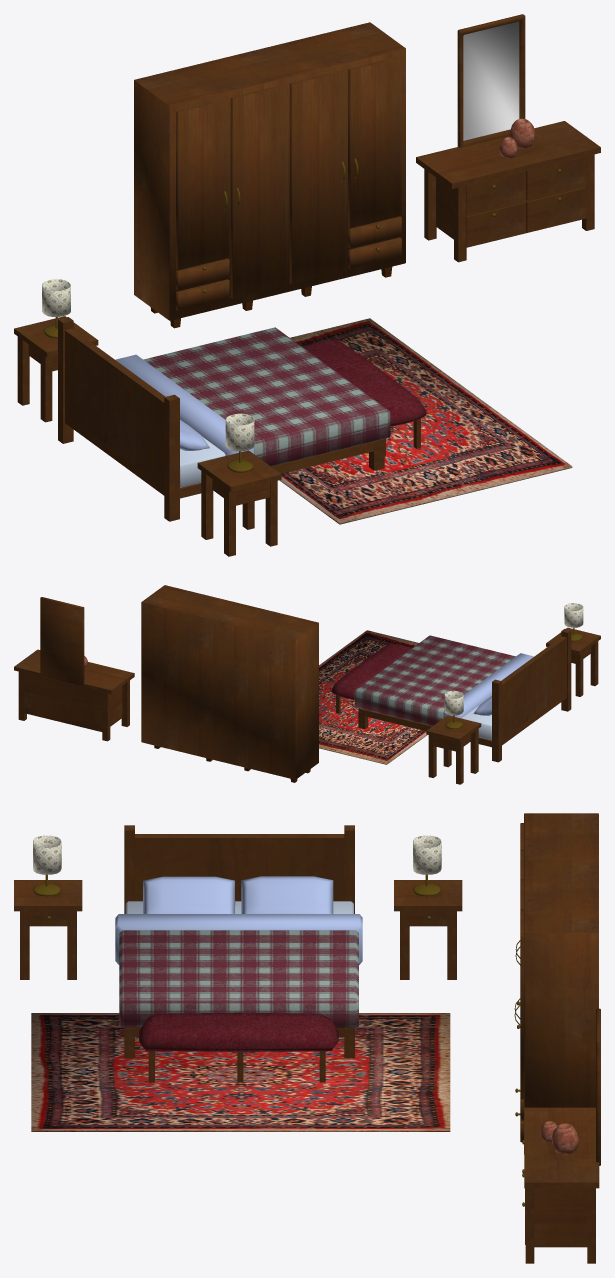
The model's file is Bedroom.fbx.
3 renders of one model, top to bottom at view 1: azimuth 30°, elevation 25°; view 2: azimuth 150°, elevation 25°; view 3: azimuth 270°, elevation 25°, orthographic. The views are drawn at different scales.
Visible parts, largest first — view 1: wardrobe, bed_big, dresser_, red, bedside_L, bench, bedside_R_, lamp_L, lamp_R, vase_; view 2: wardrobe, bed_big, dresser_, red, bedside_R_, bench, bedside_L, lamp_R, lamp_L; view 3: bed_big, red, wardrobe, dresser_, bench, bedside_L, bedside_R_, lamp_L, lamp_R, vase_.
Boxes of the visible parts, x1,y1,x2,y2 form: wardrobe: (134, 22, 405, 328); bed_big: (58, 317, 390, 521); dresser_: (416, 14, 600, 262); red: (279, 318, 572, 524); bedside_L: (197, 450, 281, 556); bench: (303, 340, 426, 456); bedside_R_: (14, 316, 98, 422); lamp_L: (225, 413, 254, 472); lamp_R: (42, 279, 70, 338); vase_: (499, 118, 535, 158); wardrobe: (141, 585, 318, 782); bed_big: (354, 629, 571, 762); dresser_: (14, 597, 134, 741); red: (319, 630, 427, 764); bedside_R_: (426, 715, 481, 784); bench: (331, 643, 411, 713); bedside_L: (546, 627, 600, 696); lamp_R: (444, 690, 463, 728); lamp_L: (564, 603, 583, 641); bed_big: (115, 825, 362, 1058); red: (31, 1013, 450, 1131); wardrobe: (514, 813, 598, 1154); dresser_: (522, 1008, 600, 1263); bench: (138, 1012, 338, 1082); bedside_L: (14, 880, 82, 979); bedside_R_: (394, 880, 462, 979); lamp_L: (33, 835, 61, 896); lamp_R: (413, 835, 441, 896); vase_: (540, 1121, 578, 1154).
Size of the model in its own units: 7.78 by 2.71 by 6.12.
